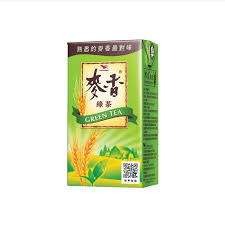鋁箔包: (65, 38, 163, 189)
